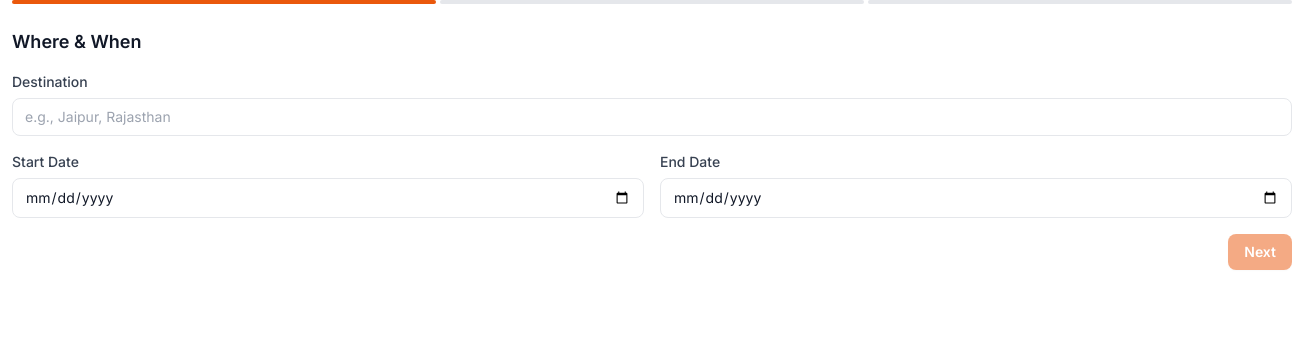
WizardForm › navigates to step 1 when fields filled and Next clicked
Type "Jaipur" into the field labelled "Destination" at (652, 117), box top-left (12, 98), bottom-right (1292, 136)
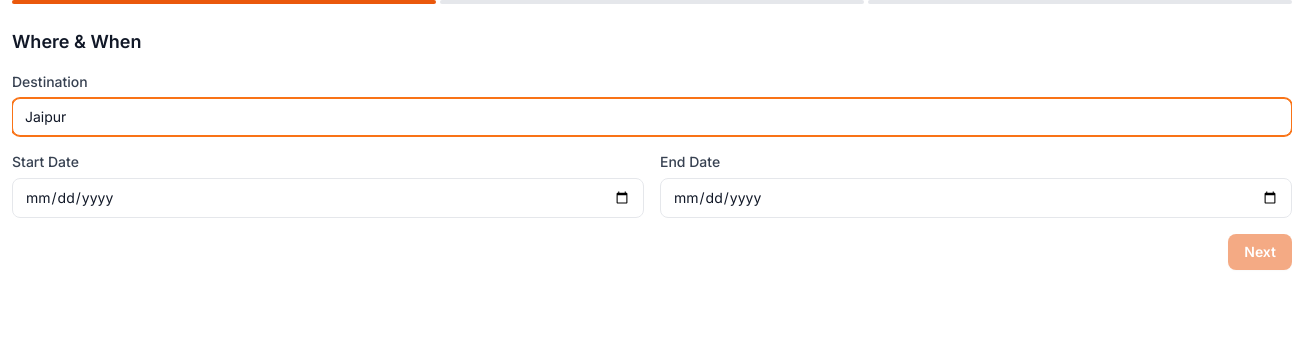
Type "2026-06-01" into the date field labelled "Start Date" at (328, 198), box top-left (12, 178), bottom-right (644, 218)
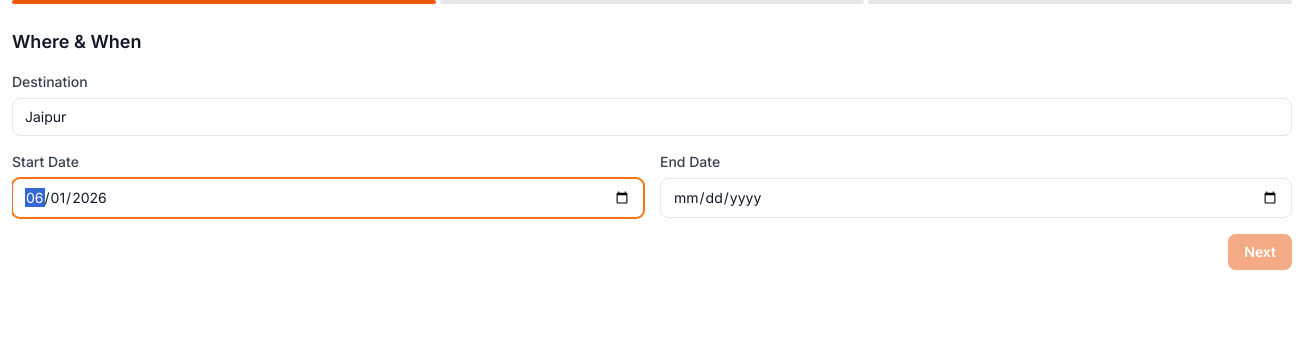
Type "2026-06-03" into the date field labelled "End Date" at (976, 198), box top-left (660, 178), bottom-right (1292, 218)
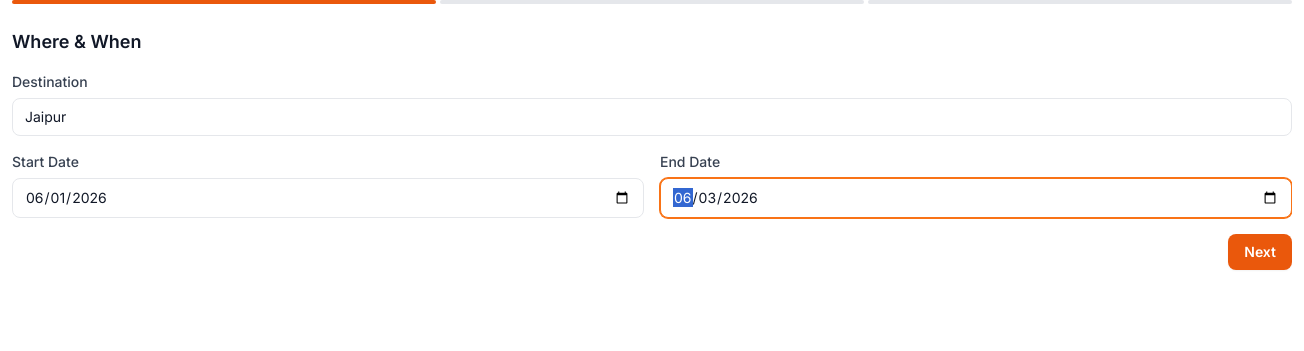
Click the button "Next" at (1260, 252), box top-left (1228, 234), bottom-right (1292, 270)
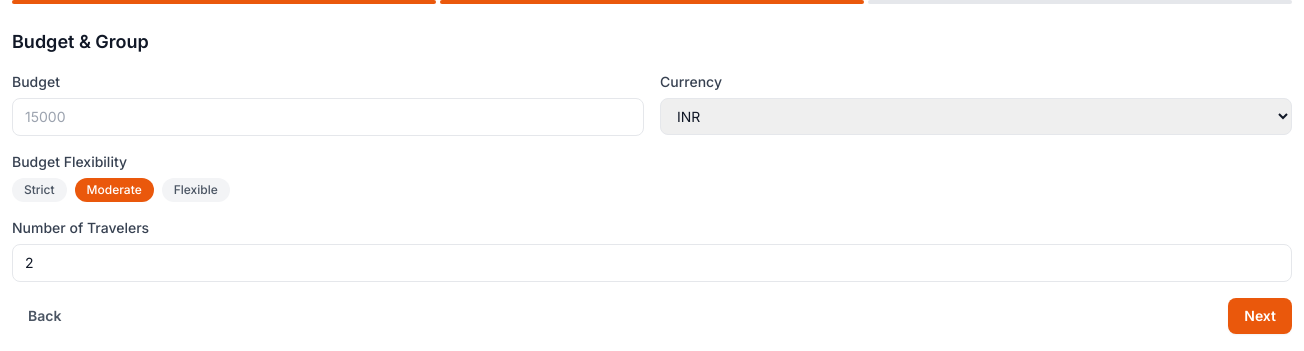
Now the heading "Budget & Group" is shown, box top-left (12, 31), bottom-right (149, 52)
